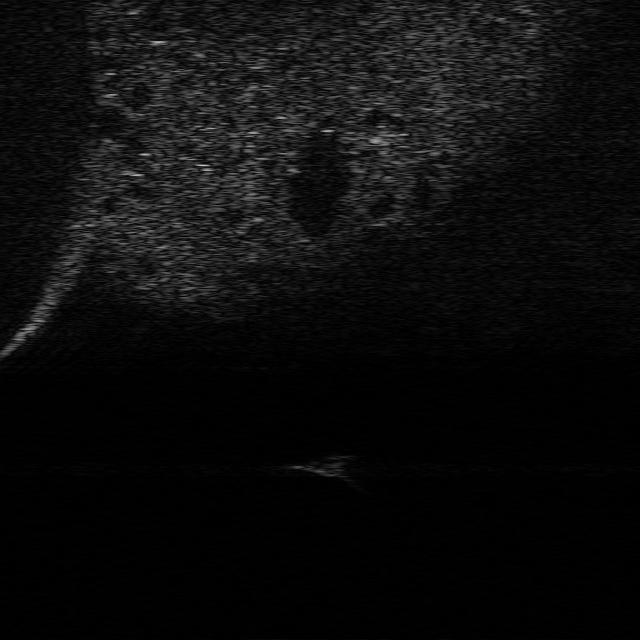cube: (291, 449, 355, 477)
